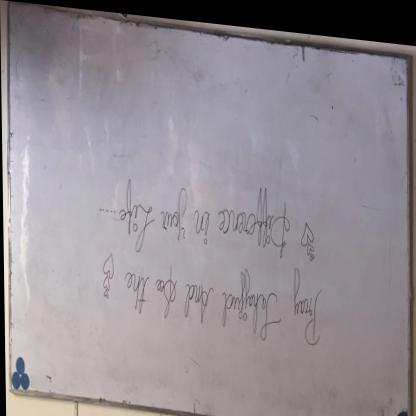Handwritten text: (124, 251, 327, 358), (115, 162, 292, 263)
Whiteboard: (9, 7, 409, 416)
